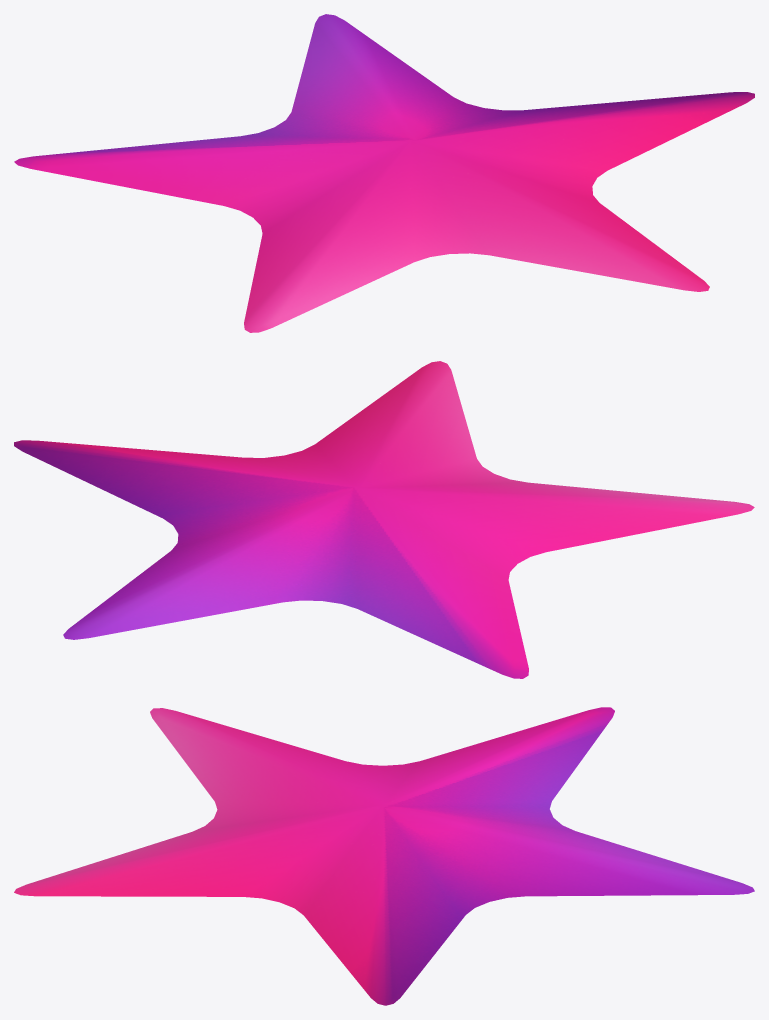
File: IconStar.fbx
3 views of the same model, one above another, from view 1: azimuth 30°, elevation 25°; view 2: azimuth 150°, elevation 25°; view 3: azimuth 270°, elevation 25° (orthographic). The views are drawn at different scales.
Visible parts, largest first — view 1: 星星; view 2: 星星; view 3: 星星.
Part boxes in pixels (x1=…): 星星: x1=14, y1=14, x2=754, y2=332; 星星: x1=14, y1=361, x2=754, y2=678; 星星: x1=14, y1=707, x2=754, y2=1005.
Size of the model in its own units: 1.7 by 0.0977 by 1.79.
1 material, 1 textured.
